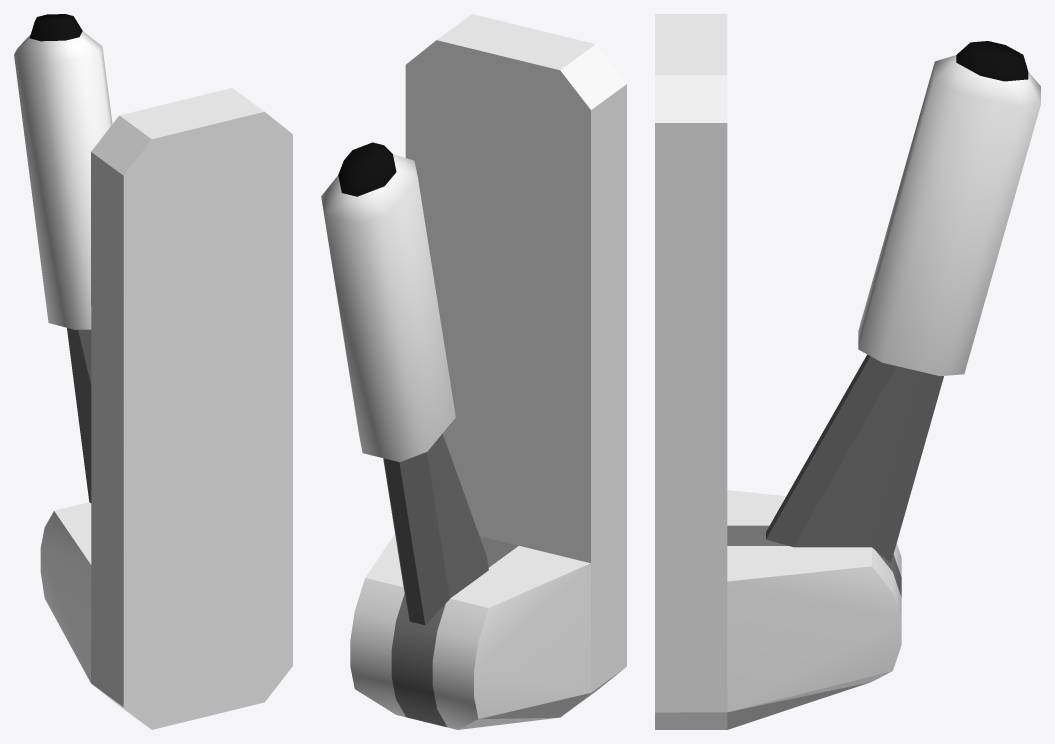
Rendered from Swi_ShouSha_off.FBX.
3 views of the same model, side by side, from view 1: azimuth 30°, elevation 25°; view 2: azimuth 150°, elevation 25°; view 3: azimuth 270°, elevation 25° (orthographic). The views are drawn at different scales.
Parts seen in each view (by area): view 1: 对象002; view 2: 对象002; view 3: 对象002.
Part boxes in pixels (left/top/right/bottom): 对象002: left=14, top=14, right=292, bottom=729; 对象002: left=321, top=14, right=626, bottom=729; 对象002: left=655, top=14, right=1040, bottom=729.
Size of the model in its own units: 6 by 20 by 10.68.
